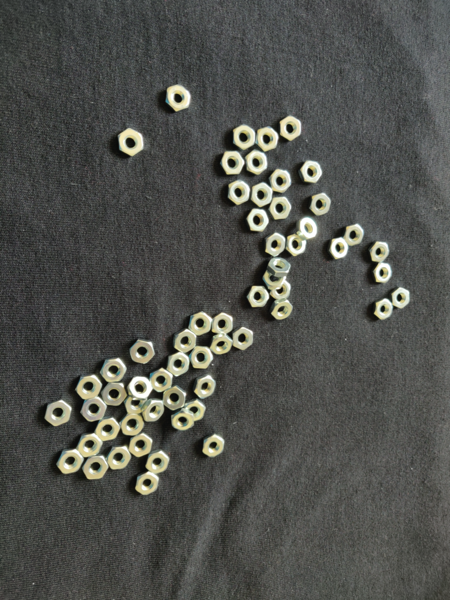nut: (165, 83, 193, 112), (117, 127, 144, 157), (79, 396, 108, 423), (74, 374, 102, 401), (45, 399, 72, 427), (100, 382, 129, 408), (128, 339, 155, 365), (94, 416, 121, 442), (232, 123, 257, 151), (82, 456, 110, 481), (56, 449, 84, 474), (219, 150, 245, 176), (76, 433, 103, 458), (100, 358, 128, 382), (166, 352, 191, 378), (106, 444, 132, 469), (188, 311, 213, 336), (173, 328, 198, 353), (189, 345, 214, 370), (128, 432, 153, 457), (246, 208, 270, 234), (119, 412, 145, 436), (279, 115, 302, 142), (231, 326, 255, 351), (149, 368, 173, 393), (128, 375, 153, 399), (146, 449, 170, 474), (135, 471, 160, 495), (245, 149, 268, 175), (256, 127, 279, 153), (228, 180, 251, 206), (251, 181, 273, 208), (202, 434, 226, 458), (308, 193, 332, 217), (193, 374, 216, 399), (164, 385, 187, 410), (269, 169, 292, 194), (300, 160, 323, 185), (264, 232, 287, 257), (212, 311, 234, 337), (184, 399, 208, 422), (171, 408, 195, 431), (285, 233, 308, 257), (343, 223, 366, 247), (246, 285, 270, 308), (270, 196, 292, 221), (261, 269, 287, 290), (269, 299, 295, 320), (124, 393, 147, 416), (327, 237, 350, 260), (210, 334, 234, 356), (296, 217, 318, 241), (142, 399, 165, 421), (369, 240, 391, 263), (372, 262, 394, 285), (373, 299, 395, 321), (390, 286, 411, 309), (267, 258, 292, 277), (271, 280, 292, 300)
